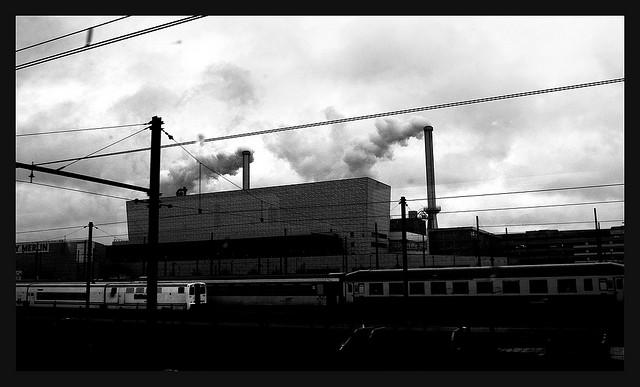Train: (348, 263, 626, 330), (154, 273, 344, 313), (16, 283, 210, 319)
